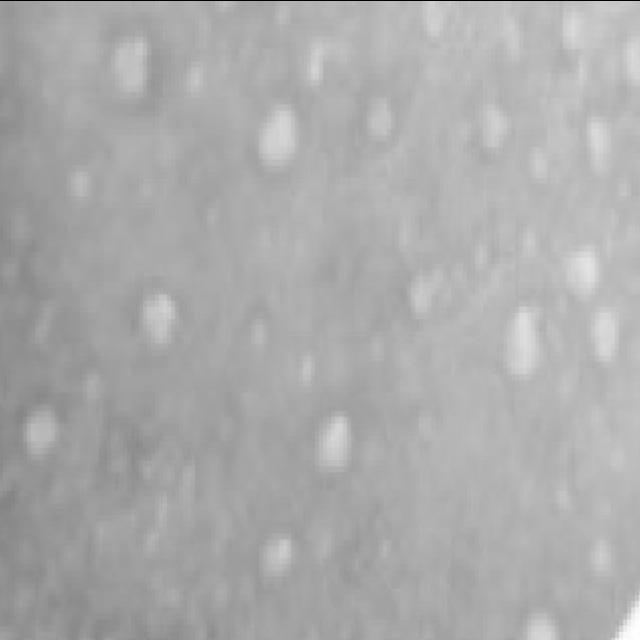whitehead: (54, 11, 640, 630)
